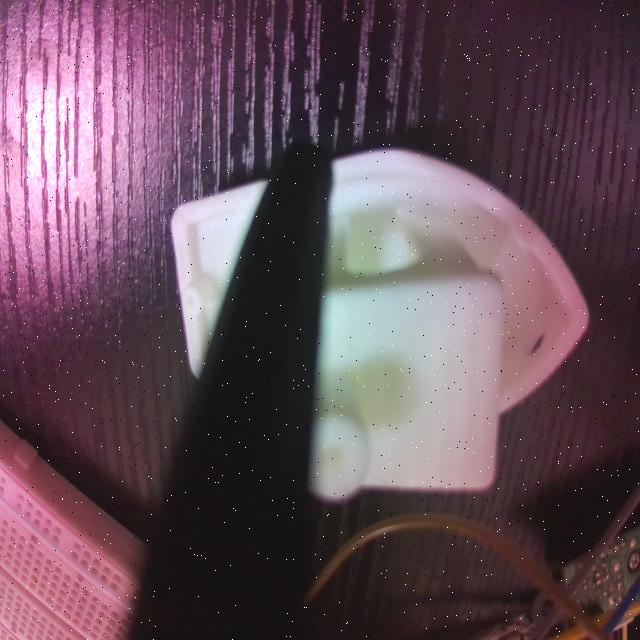ship: (169, 143, 589, 504)
